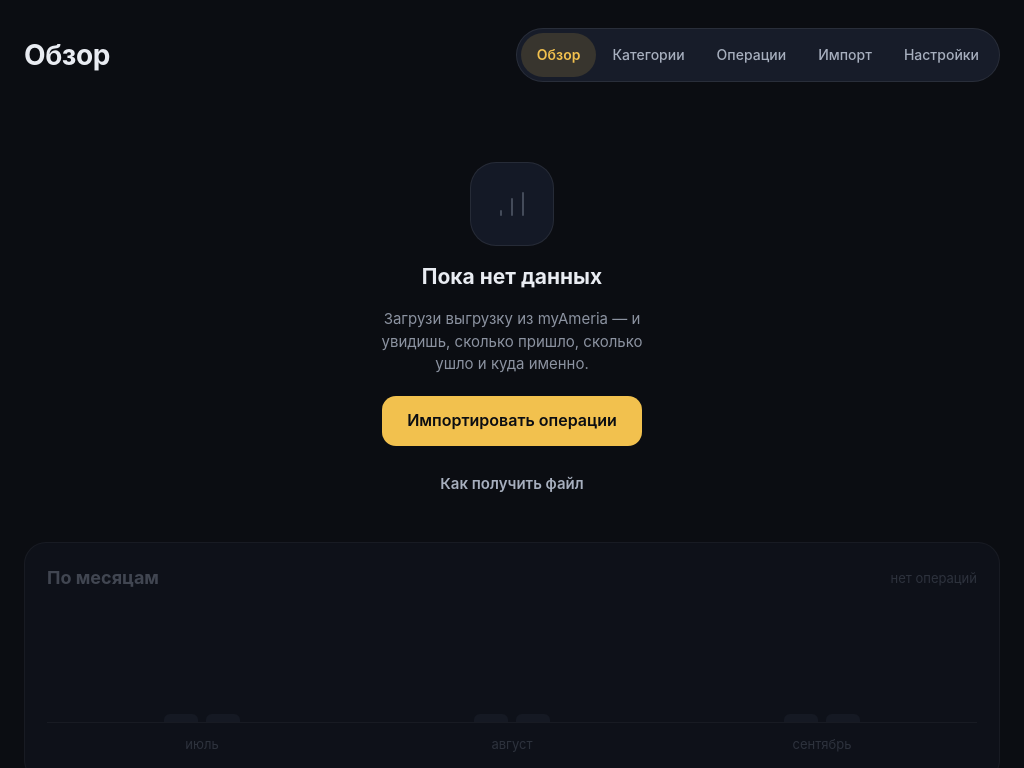
App: «сегодня» — по местному времени, а не по UTC › без операций экран категорий показывает текущий месяц по местному времени
Expected: the heading "Пока нет данных" is shown, [422,262,602,292]
Click the button "Категории": (649, 55) [596,33,701,77]
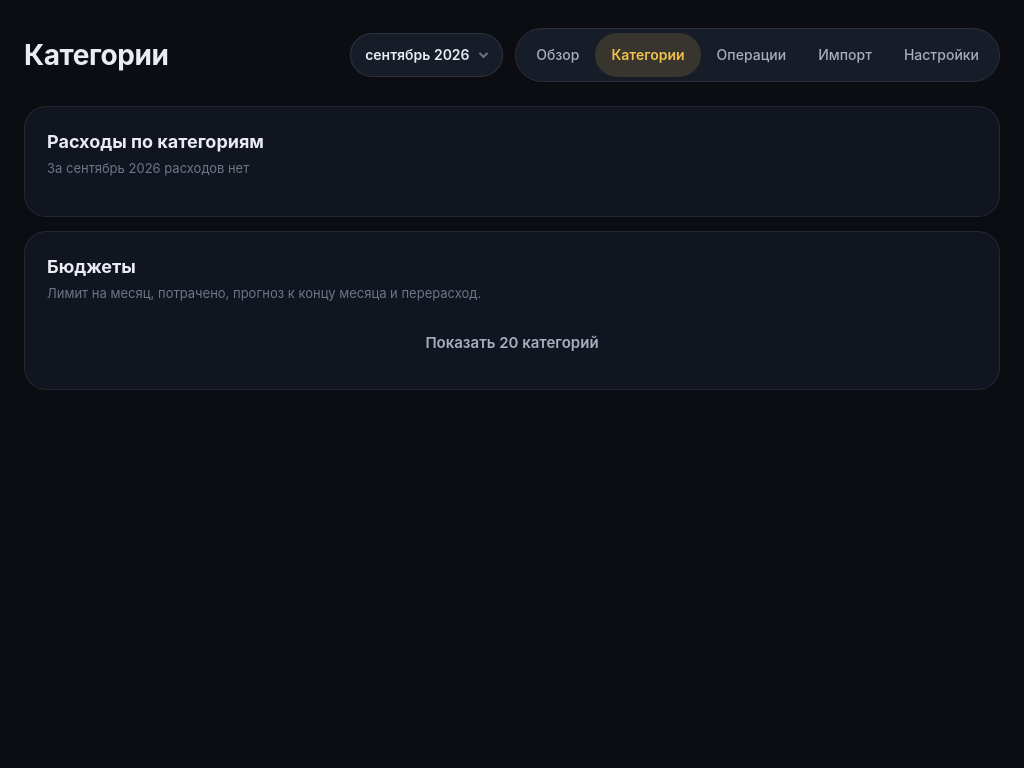
Expected: the element with test id "categories-heading" shows "сентябрь 2026", [47,160,249,176]
